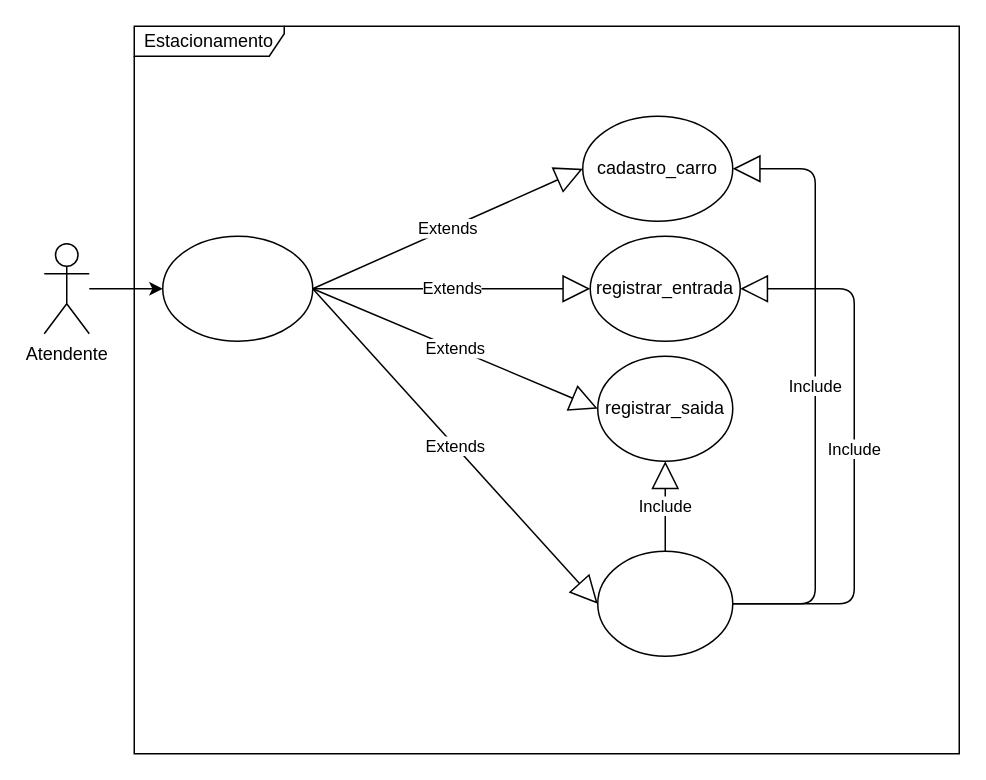
This 986x780 diagram has some shape labels left out. The centre of each missing label's shape, as x and y in pixels:
"Acesso" goes at point 237,288.
"calculo_final" goes at point 664,603.
